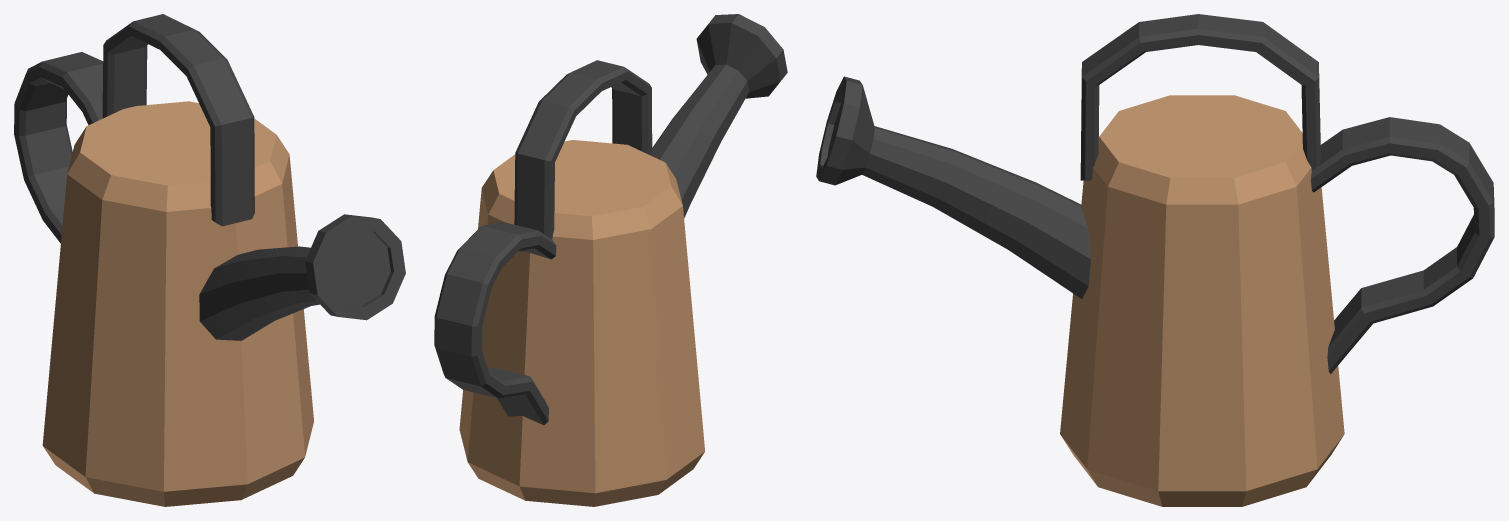
Rendered from watersprinkler_a003.glb.
3 views of the same model, side by side, from view 1: azimuth 30°, elevation 25°; view 2: azimuth 150°, elevation 25°; view 3: azimuth 270°, elevation 25° (orthographic). The views are drawn at different scales.
Parts seen in each view (by area): view 1: watersprinkler_a003; view 2: watersprinkler_a003; view 3: watersprinkler_a003.
Boxes of the visible parts, box(x1,y1,x2,y2) form: watersprinkler_a003: box(14, 14, 405, 506); watersprinkler_a003: box(434, 14, 787, 506); watersprinkler_a003: box(816, 14, 1494, 506).
Bounding box in the file's own units: 0.1934 × 0.3417 × 0.4848.
1 material, 1 textured.
